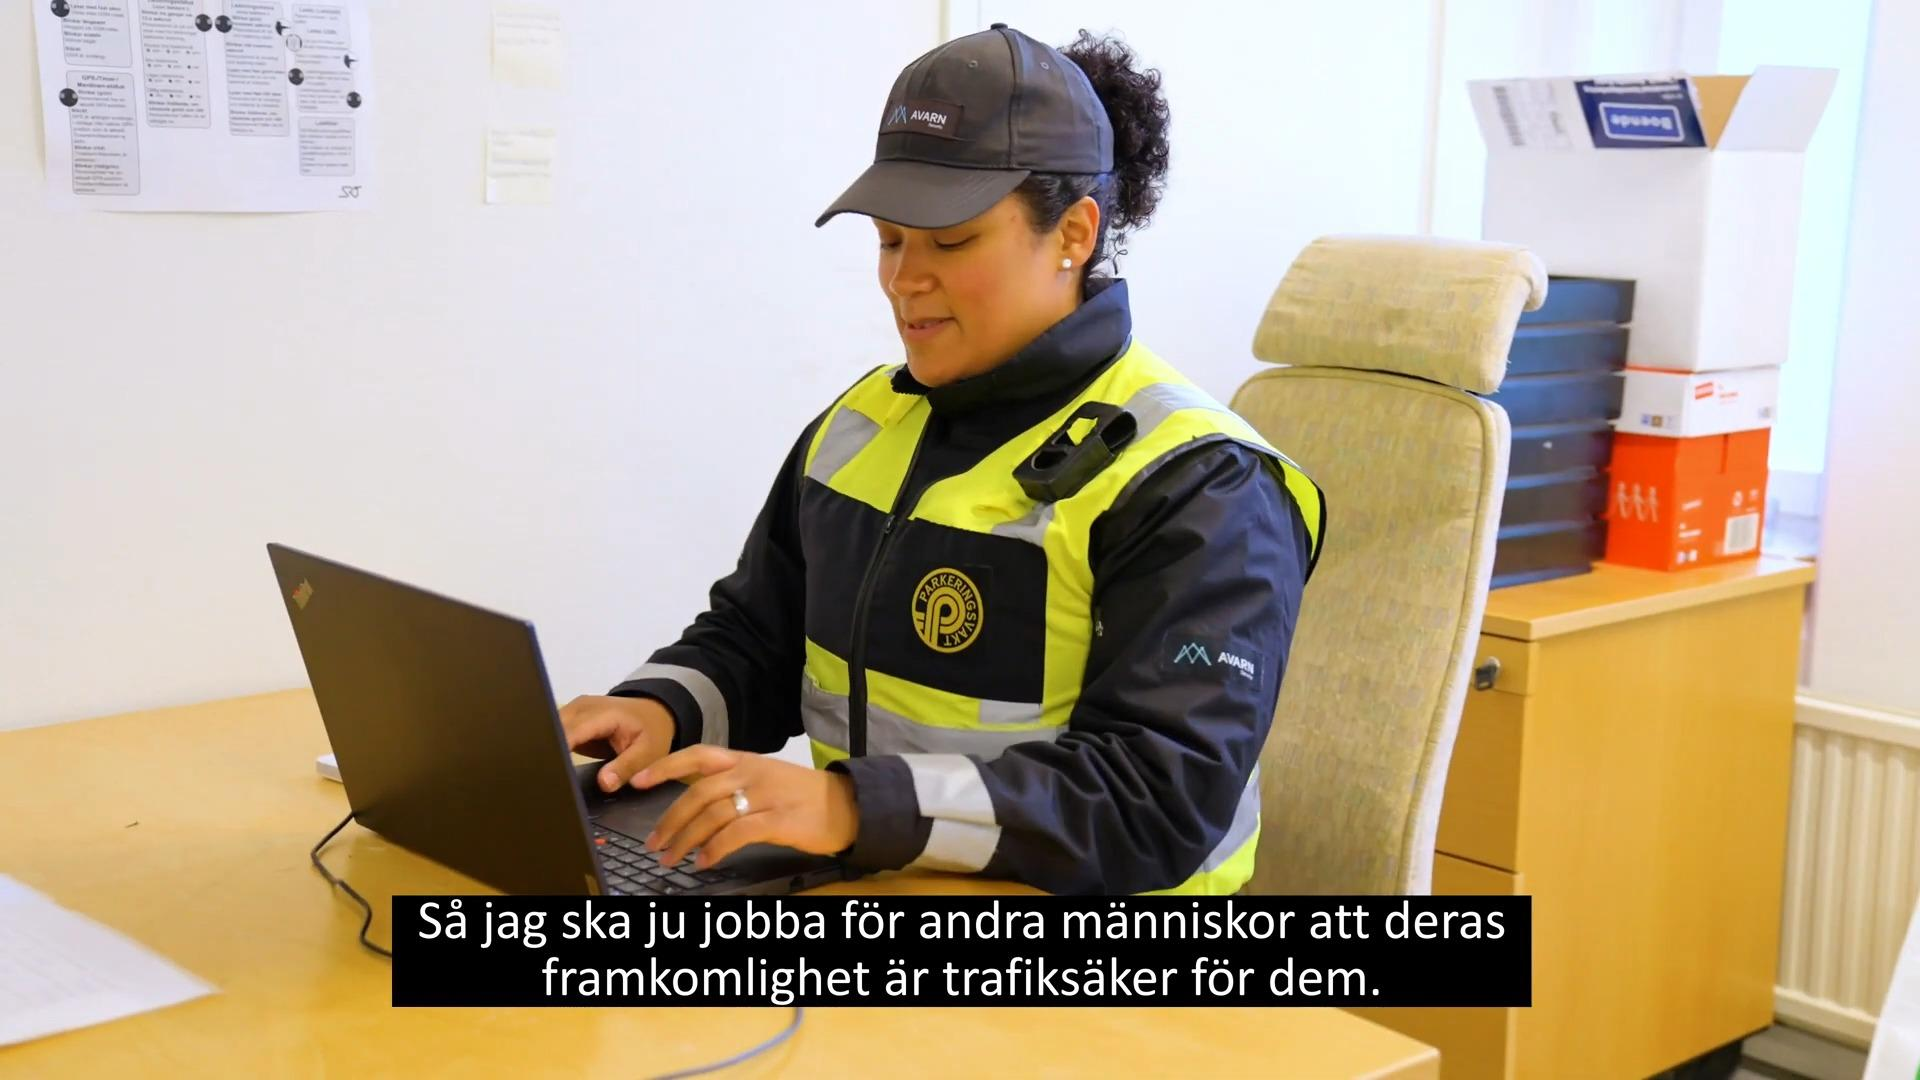parking-attendant: (562, 24, 1323, 894)
